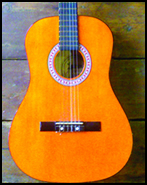guitar: (7, 1, 134, 182)
